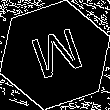M_S: (23, 24, 87, 86)
